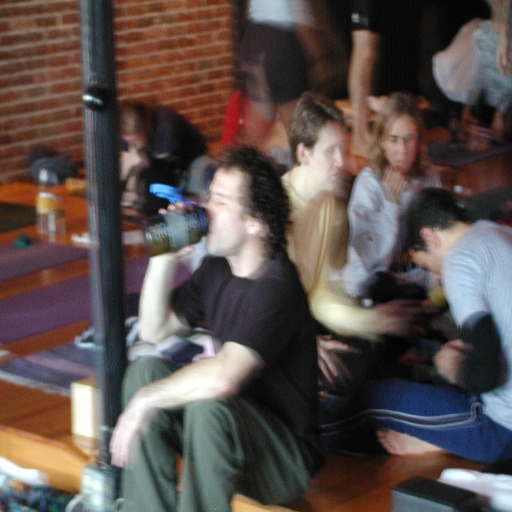hand: (106, 398, 142, 469), (157, 199, 194, 264), (379, 165, 408, 204), (432, 345, 457, 384), (442, 336, 465, 353)
